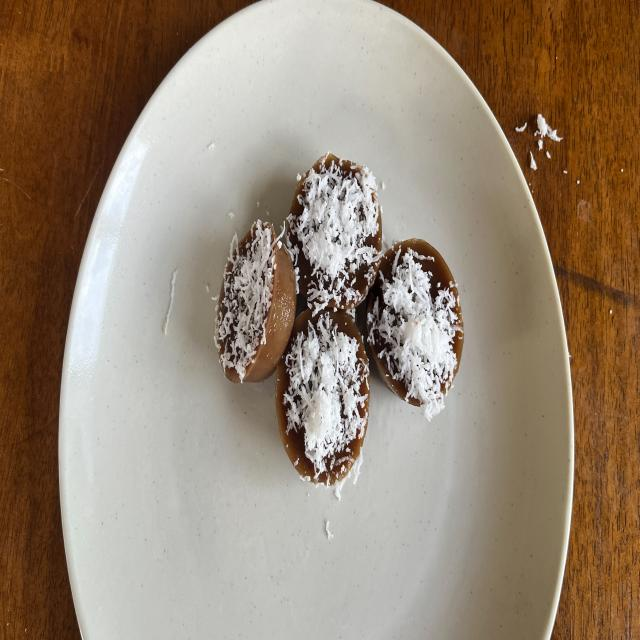Kuih lompang: (366, 238, 464, 420), (275, 309, 370, 487), (286, 153, 382, 313), (215, 220, 296, 382)
